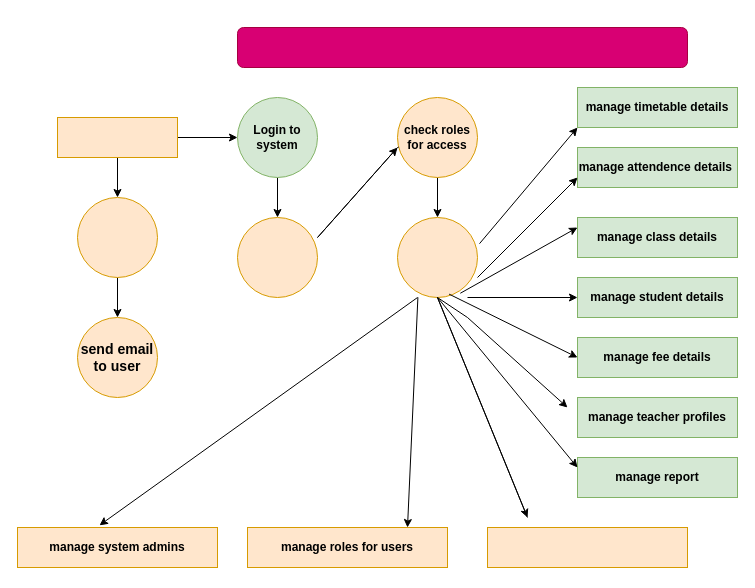
Some shapes in this 755 by 588 pixel diagram are drawn without their labels. The shapes that lost their labels are listed below. From the top down, each one's centre as x and y in pixels, then its label:
At point (462, 47): "student information system".
At point (117, 137): "admin".
At point (117, 237): "forgot password".
At point (277, 257): "check credentials".
At point (437, 257): "manage modules".
At point (587, 547): "manage user permission".
